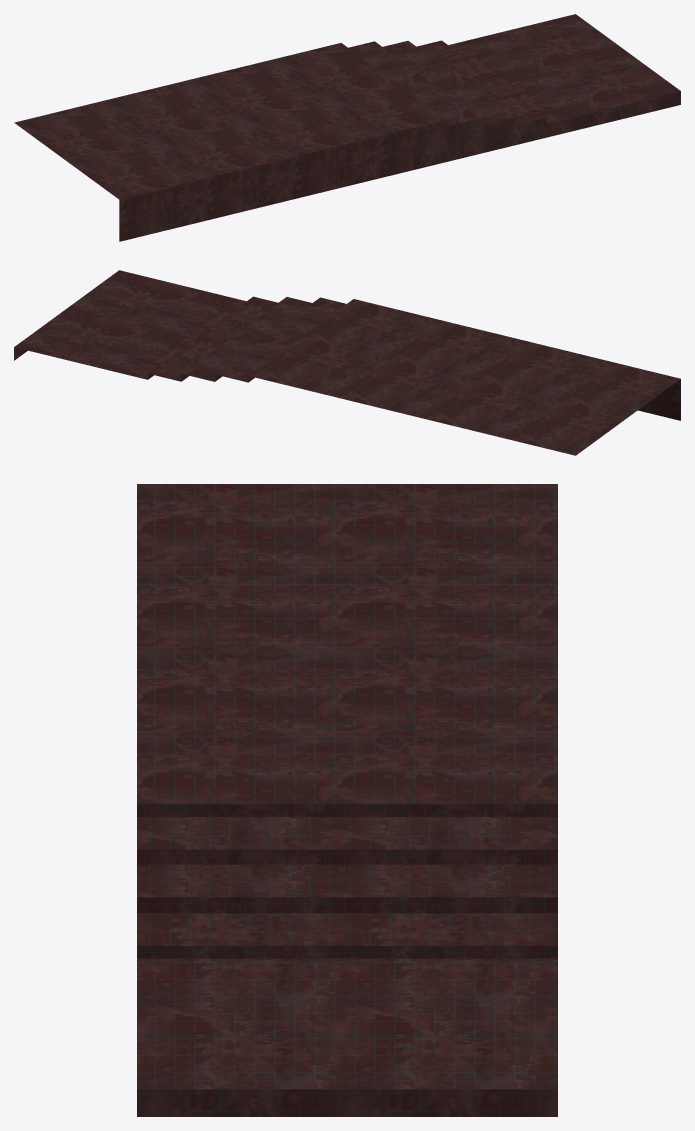
Rendered from stairs.fbx.
3 renders of one model, top to bottom at view 1: azimuth 30°, elevation 25°; view 2: azimuth 150°, elevation 25°; view 3: azimuth 270°, elevation 25°, orthographic. The views are drawn at different scales.
Parts seen in each view (by area): view 1: stairs; view 2: stairs; view 3: stairs.
Boxes of the visible parts, x1=… form: stairs: x1=14, y1=14, x2=680, y2=241; stairs: x1=14, y1=270, x2=680, y2=455; stairs: x1=137, y1=484, x2=557, y2=1116.
Bounding box in the file's own units: 1250 × 89.84 × 406.
1 material, 1 textured.
